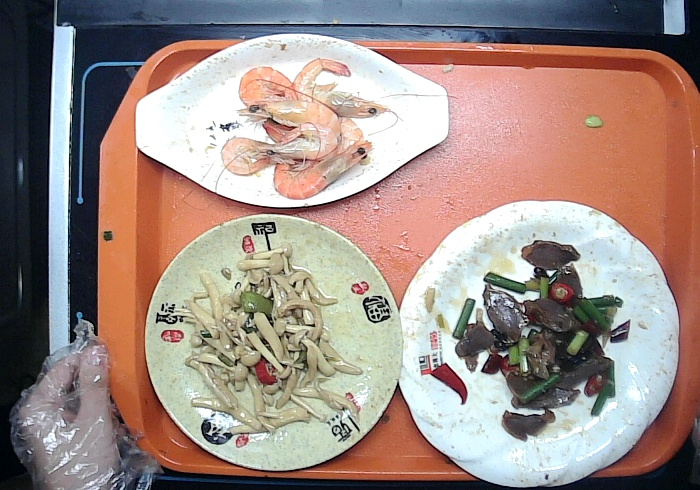NLDX-Bai_Zhe_Yuan_Pan: (391, 198, 683, 490)
NLDX-Fu_Zi_Yuan_Pan: (142, 213, 404, 474)
NLDX-Yu_Pan: (132, 31, 452, 207)
